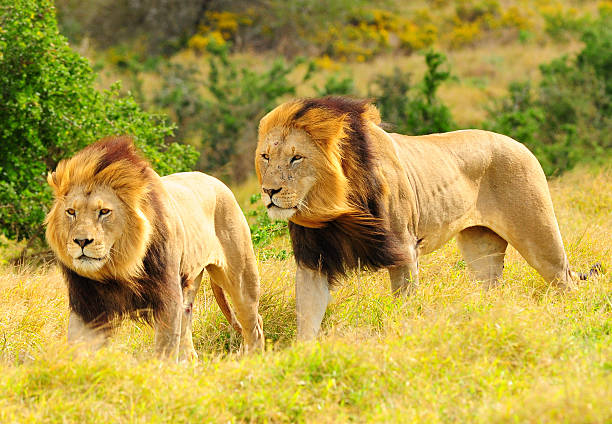lion: (18, 126, 185, 358), (250, 87, 422, 301)
